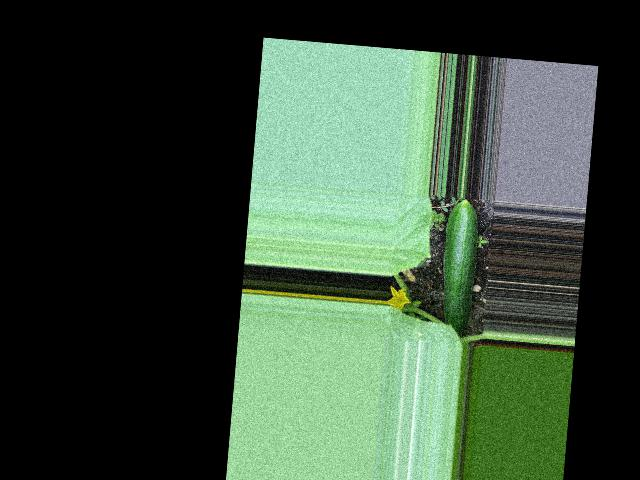cucumber: (437, 197, 482, 333)
